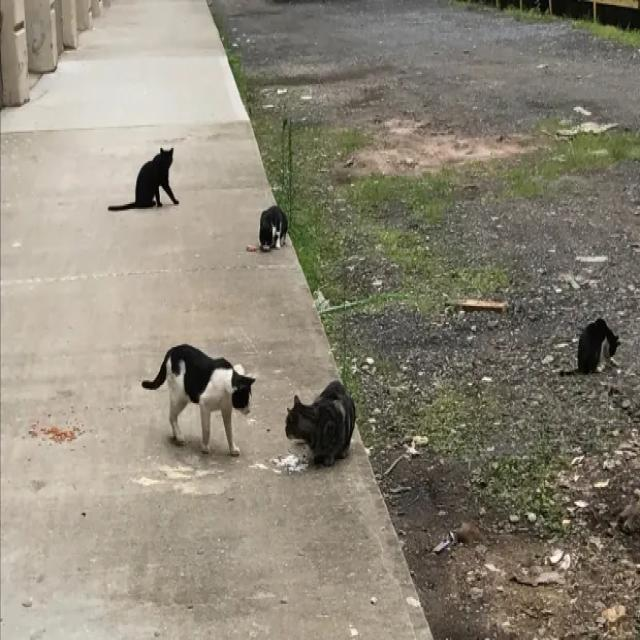cat: (142, 345, 255, 455), (286, 381, 355, 465), (109, 147, 179, 210), (578, 319, 620, 372), (260, 205, 288, 250)
